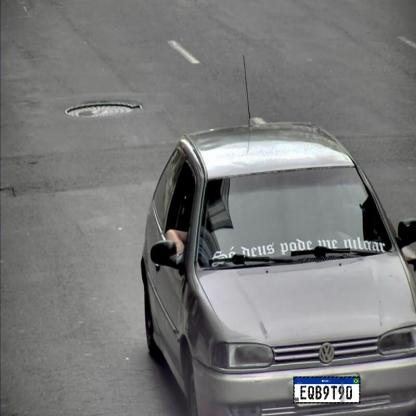PlacaM: (294, 376, 360, 404)
